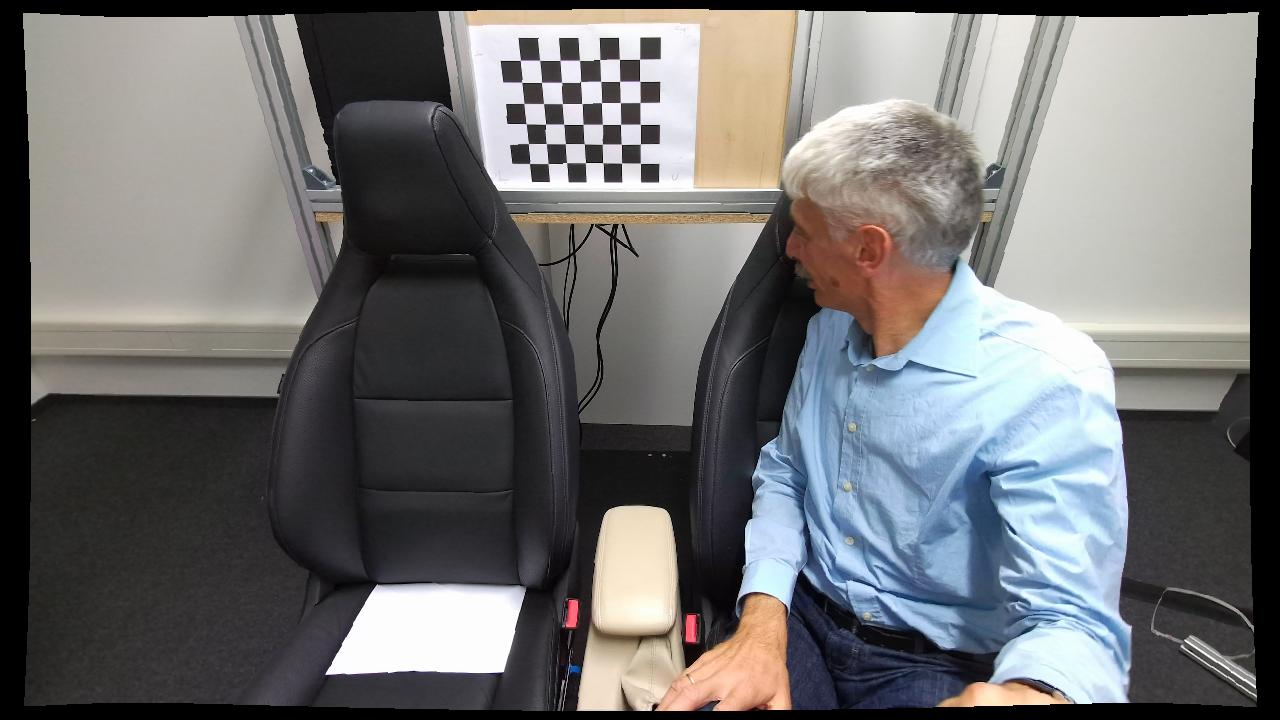Distracted: (702, 93, 1126, 708)
